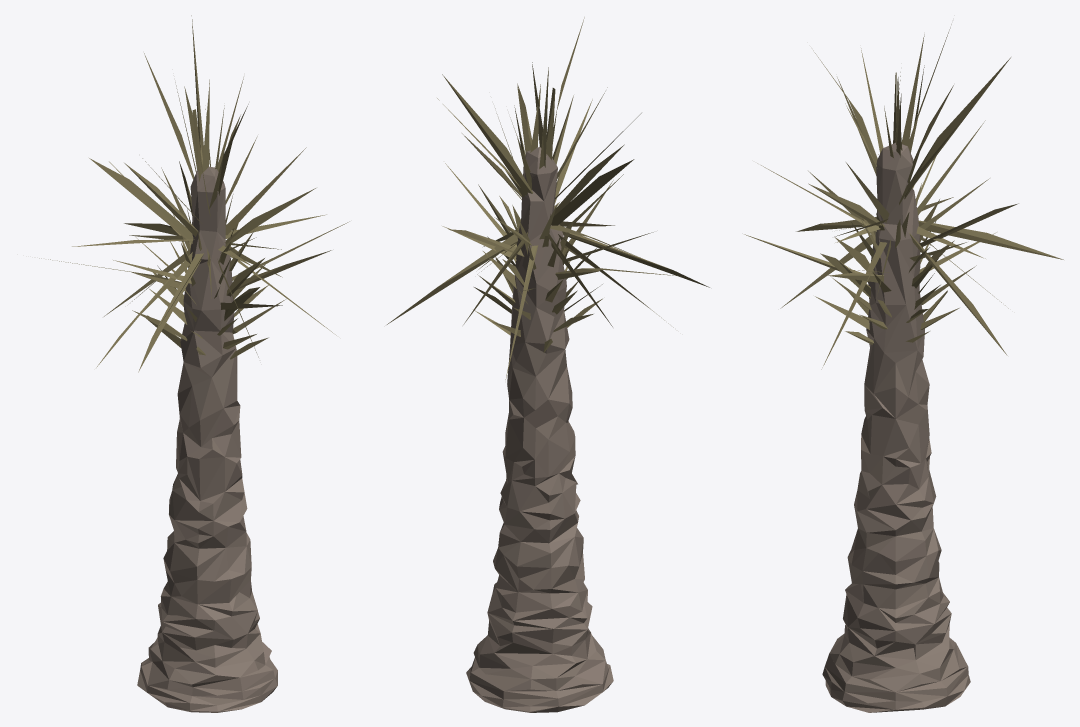
The model's file is palm-fan.lod2.glb.
3 renders of one model, left to right at view 1: azimuth 30°, elevation 25°; view 2: azimuth 150°, elevation 25°; view 3: azimuth 270°, elevation 25°, orthographic. The views are drawn at different scales.
Visible parts, largest first — view 1: _1_HP_Palm3_Trunk_0; view 2: _1_HP_Palm3_Trunk_0; view 3: _1_HP_Palm3_Trunk_0.
Part boxes in pixels (box(x1,y1,x2,y2)): _1_HP_Palm3_Trunk_0: box(39, 15, 349, 712); _1_HP_Palm3_Trunk_0: box(387, 17, 709, 712); _1_HP_Palm3_Trunk_0: box(744, 24, 1063, 712).
Size of the model in its own units: 3.94 by 8.12 by 3.67.
